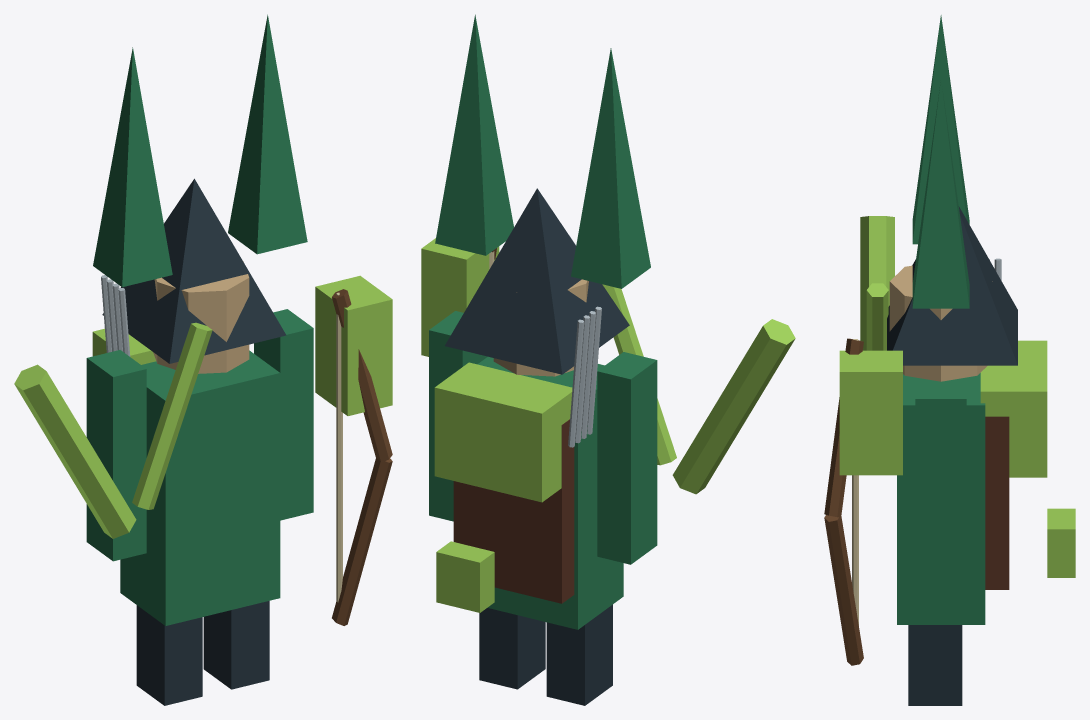
The model's file is stone-slinger.obj.
3 views of the same model, side by side, from view 1: azimuth 30°, elevation 25°; view 2: azimuth 150°, elevation 25°; view 3: azimuth 270°, elevation 25° (orthographic). The views are drawn at different scales.
Visible parts, largest first — view 1: ranged; view 2: ranged; view 3: ranged.
Boxes of the visible parts, x1,y1,x2,y2 form: ranged: (14, 14, 392, 705); ranged: (421, 14, 795, 705); ranged: (824, 15, 1075, 705).
Bounding box in the file's own units: 1.26 × 2.21 × 0.7936.
